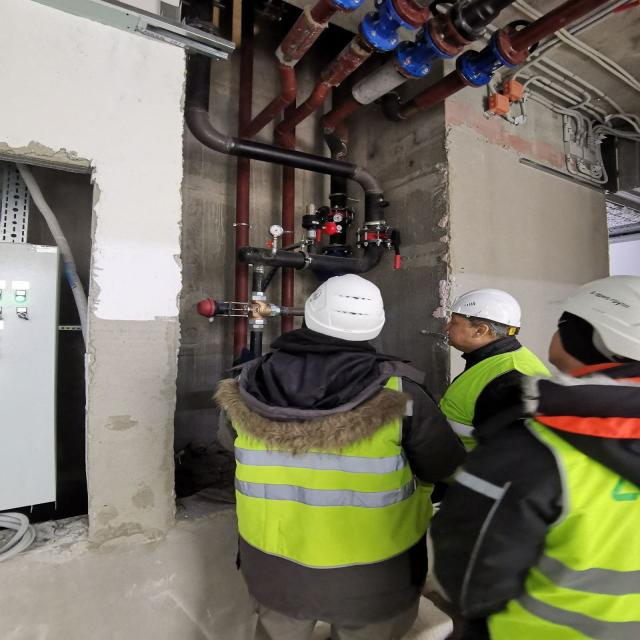Helmet: (562, 276, 640, 359), (301, 276, 389, 340), (449, 290, 525, 328)
Jacket: (233, 366, 416, 550), (502, 432, 640, 639), (459, 351, 527, 440)
